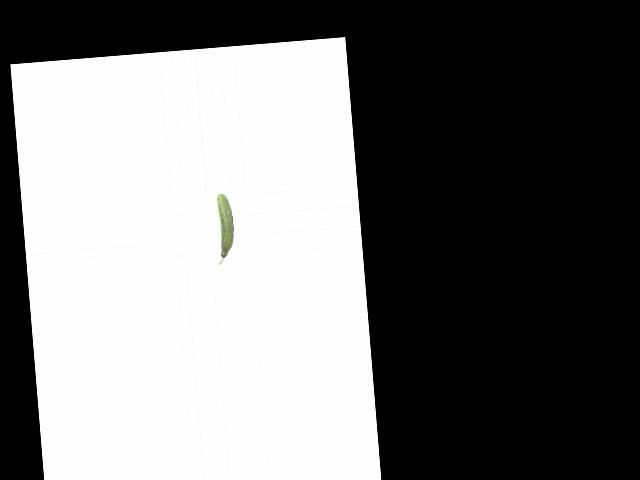cucumber: (213, 193, 236, 265)
